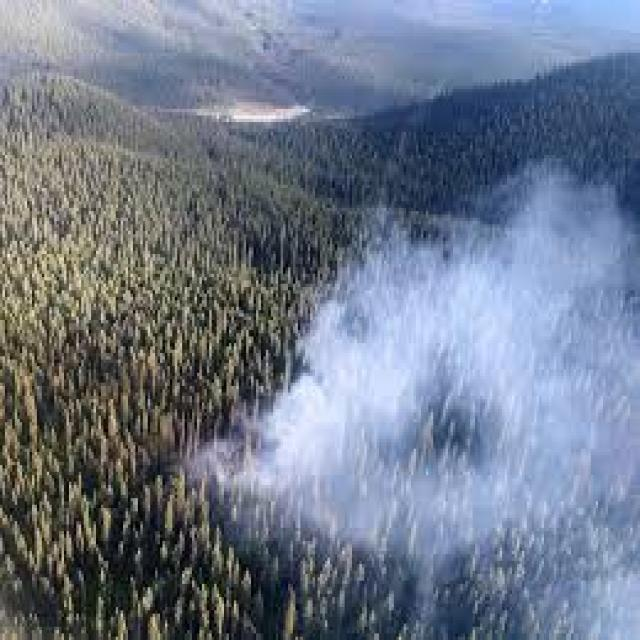Smoke: (282, 230, 640, 631), (195, 379, 322, 531)
